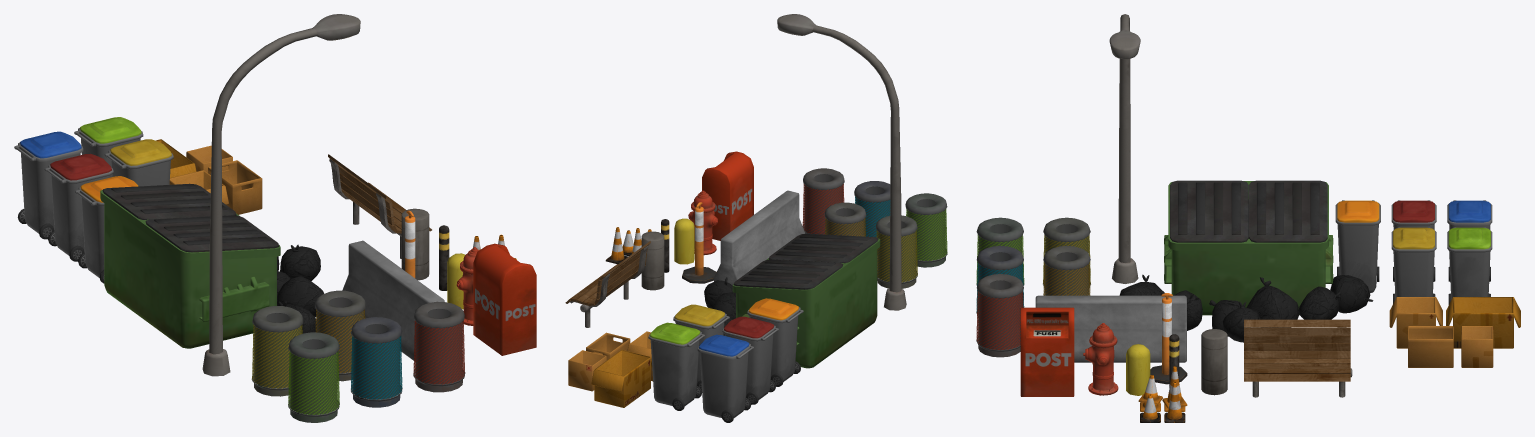
Rendered from Street Props Pack.glb.
The picture shows the model from 3 angles, left to right: view 1: azimuth 30°, elevation 25°; view 2: azimuth 150°, elevation 25°; view 3: azimuth 270°, elevation 25°; orthographic projection. The views are drawn at different scales.
Visible parts, largest first — view 1: Big Bin Body, Big Bin Lid Right, Post Box, Street Light, Concrete Barrier, Red Trash Can.003, Red Trash Can.004, Red Trash Can.002, Red Trash Can.001, Body (×2), Red Trash Can, Body.003 (+20 smaller); view 2: Big Bin Body, Big Bin Lid Right, Street Light, Concrete Barrier, Body (×2), Post Box, Body.002, Box 4, Red Trash Can.003, Red Trash Can.004, Red Trash Can.001, Body.003 (+21 smaller); view 3: Big Bin Lid Right, Big Bin Body, Wood Bench, Concrete Barrier, Post Box, Street Light, Red Trash Can.004, Box 4, Body.001, Red Trash Can, Body.002, Body (+23 smaller).
Part boxes in pixels (bbox=[...]): Big Bin Body: bbox=[100, 190, 280, 348]; Big Bin Lid Right: bbox=[102, 183, 279, 252]; Post Box: bbox=[473, 243, 536, 355]; Street Light: bbox=[202, 14, 360, 376]; Concrete Barrier: bbox=[342, 240, 444, 360]; Red Trash Can.003: bbox=[288, 332, 339, 422]; Red Trash Can.004: bbox=[413, 301, 465, 392]; Red Trash Can.002: bbox=[350, 317, 402, 407]; Red Trash Can.001: bbox=[251, 306, 303, 396]; Body (×2): bbox=[18, 142, 173, 233]; Red Trash Can: bbox=[315, 290, 365, 381]; Body.003: bbox=[48, 165, 113, 255]; Big Bin Body: bbox=[732, 238, 880, 368]; Big Bin Lid Right: bbox=[733, 233, 878, 289]; Street Light: bbox=[777, 14, 906, 310]; Concrete Barrier: bbox=[714, 190, 805, 285]; Body (×2): bbox=[673, 313, 750, 417]; Post Box: bbox=[702, 151, 753, 240]; Body.002: bbox=[648, 331, 701, 405]; Box 4: bbox=[591, 350, 652, 407]; Red Trash Can.003: bbox=[905, 193, 947, 267]; Red Trash Can.004: bbox=[802, 168, 844, 234]; Red Trash Can.001: bbox=[876, 215, 917, 288]; Body.003: bbox=[722, 325, 775, 399]; Big Bin Lid Right: bbox=[1170, 180, 1327, 242]; Big Bin Body: bbox=[1164, 181, 1333, 315]; Wood Bench: bbox=[1244, 319, 1350, 381]; Concrete Barrier: bbox=[1035, 295, 1186, 362]; Post Box: bbox=[1020, 307, 1074, 396]; Street Light: bbox=[1109, 14, 1140, 283]; Red Trash Can.004: bbox=[976, 274, 1023, 357]; Box 4: bbox=[1446, 297, 1520, 348]; Body.001: bbox=[1335, 202, 1380, 293]; Red Trash Can: bbox=[1043, 246, 1090, 295]; Body.002: bbox=[1447, 230, 1492, 299]; Body: bbox=[1391, 230, 1436, 298].
Size of the model in its own units: 4.46 by 4.11 by 6.84.
Materials: 38 (38 with a texture image).
